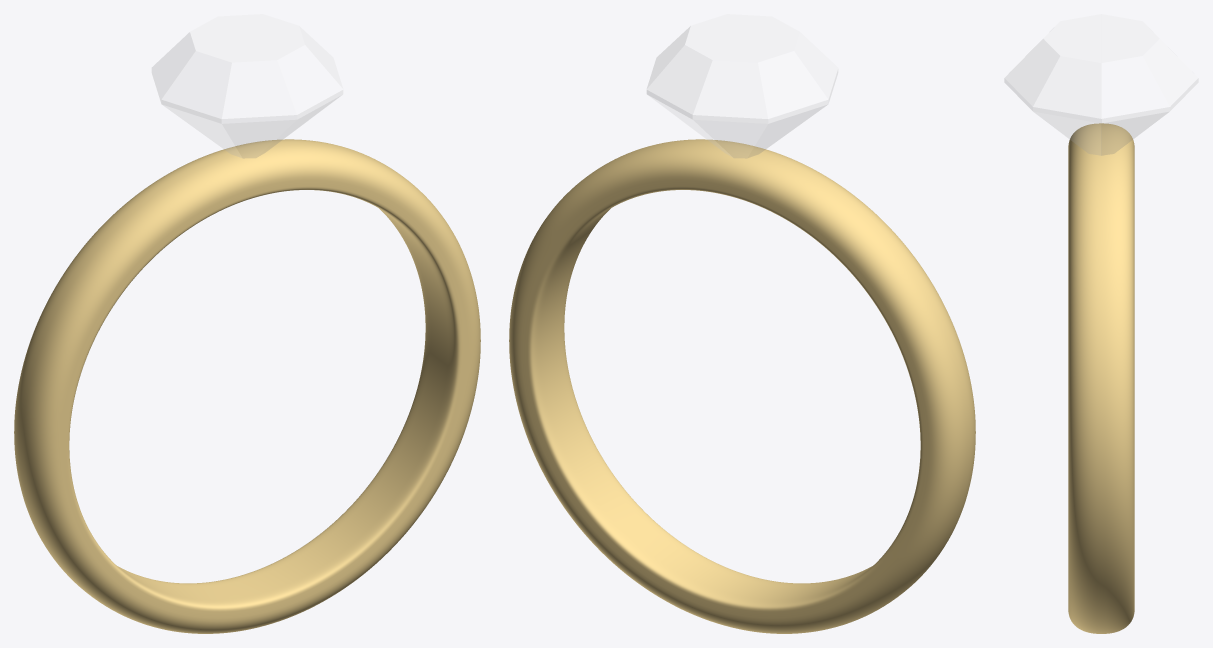
The model's file is gold_ring.glb.
3 views of the same model, side by side, from view 1: azimuth 30°, elevation 25°; view 2: azimuth 150°, elevation 25°; view 3: azimuth 270°, elevation 25° (orthographic). The views are drawn at different scales.
Visible parts, largest first — view 1: RingDiamond; view 2: RingDiamond; view 3: RingDiamond.
Part boxes in pixels (x1,y1,x2,y2): RingDiamond: (14,14,480,633); RingDiamond: (509,14,975,633); RingDiamond: (1004,14,1198,633).
Size of the model in its own units: 2 by 2.47 by 0.76.
